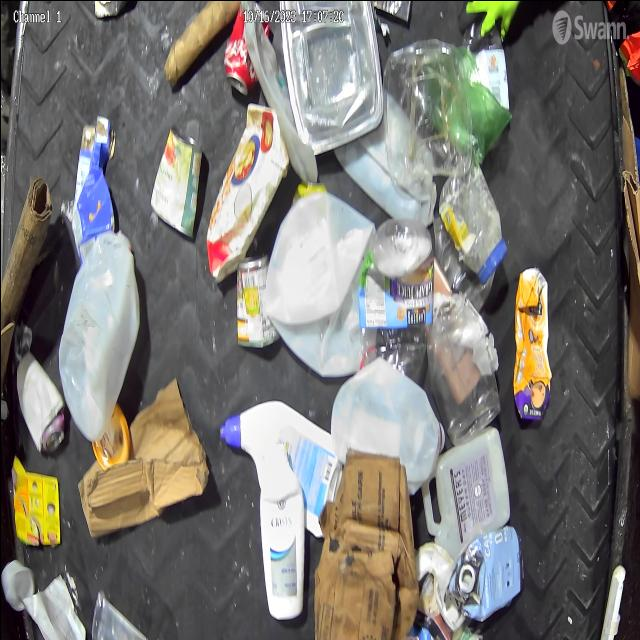can: (148, 128, 200, 228), (233, 254, 273, 347), (222, 19, 266, 91)
milk_jug: (264, 184, 364, 364), (57, 225, 138, 428), (334, 370, 446, 464)
non_white_jug: (450, 524, 524, 620)
